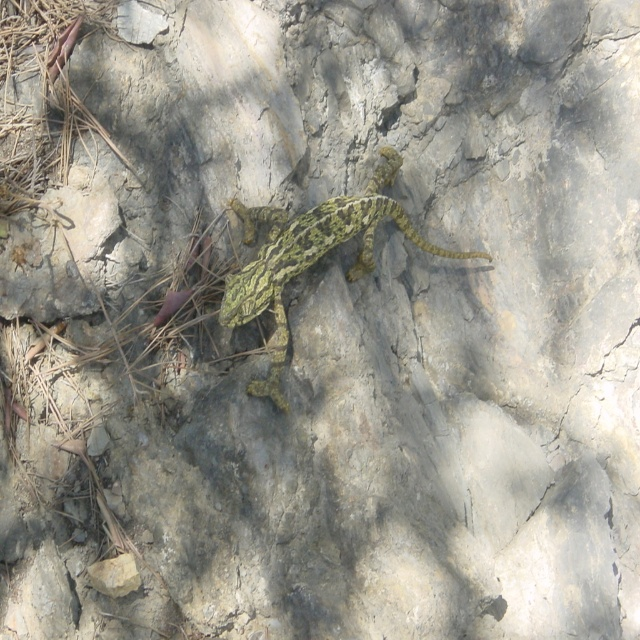Lizard: (178, 179, 490, 385)
